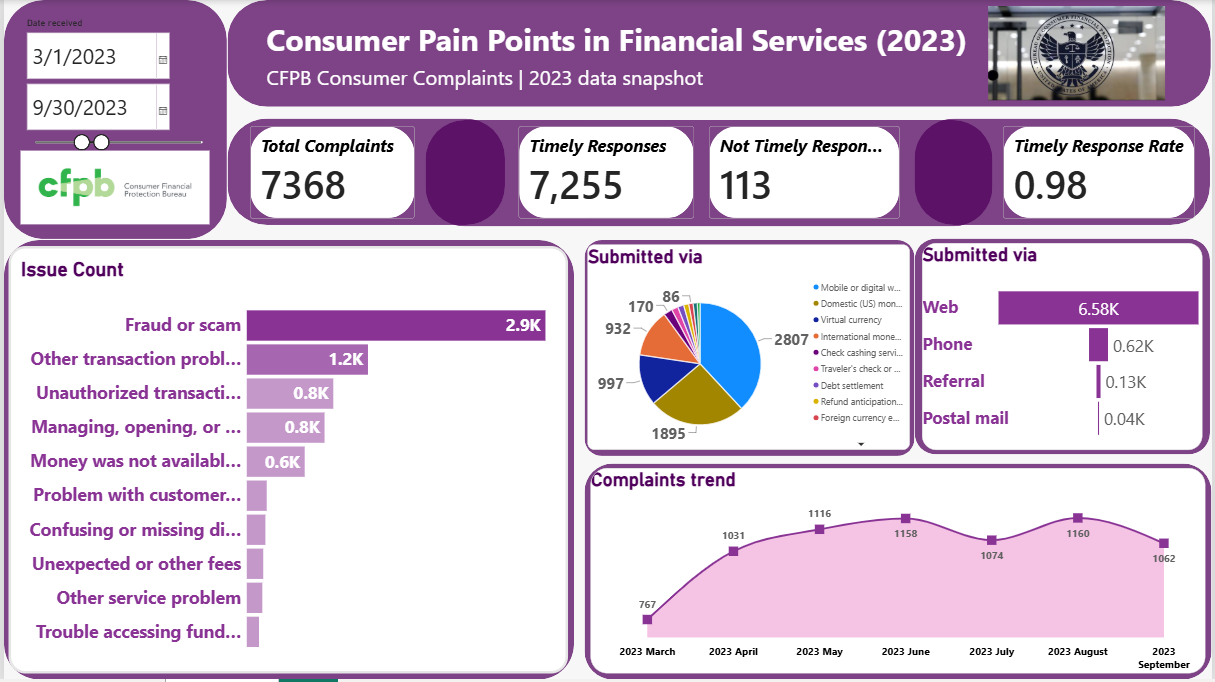

This screenshot's page, from the dashboard's own definition file:
{"tool":"powerbi","page":{"name":"Page 1","canvas":[1920,1080],"ordinal":0},"visuals":[{"type":"shape","box":[354.5,0,1564.2,169.7],"z":0},{"type":"shape","box":[355.5,188.5,441.4,169.4],"z":1000},{"type":"shape","box":[670.4,190.9,901.9,169.4],"z":2000},{"type":"shape","box":[1448.3,188.5,470,169.4],"z":3000},{"type":"shape","box":[0,0,354.5,380.3],"z":4000},{"type":"shape","box":[0,381.7,906.6,699.1],"z":5000},{"type":"shape","box":[1448.3,379.4,470,343.6],"z":6000},{"type":"shape","box":[923.3,737.2,997.3,343.6],"z":7000},{"type":"cardVisual","fields":{"Data":["Cleaned.Total Complaints"]},"box":[391.3,200.4,262.5,147.9],"z":8000},{"type":"cardVisual","fields":{"Data":["Cleaned.Timely Responses"]},"box":[818.4,200.4,279.2,147.9],"z":9000},{"type":"cardVisual","fields":{"Data":["Cleaned.Not Timely Responses"]},"box":[1121.4,200.4,303,147.9],"z":10000},{"type":"cardVisual","fields":{"Data":["Cleaned.Timely Response Rate"]},"box":[1589,200.4,305.4,147.9],"z":11000},{"type":"textbox","box":[417.5,28.6,1266.9,74],"z":12000},{"type":"textbox","box":[417.5,100.2,718.2,50.1],"z":13000},{"type":"clusteredBarChart","title":"Issue Count","fields":{"Y":["CountNonNull(Cleaned.Issue)"],"Category":["Cleaned.Issue"]},"box":[7.2,391.3,889.9,680],"z":14000},{"type":"slicer","fields":{"Values":["Cleaned.Date received"]},"box":[28.3,28.3,303.3,331.7],"z":15000},{"type":"funnel","title":"Submitted via","fields":{"Category":["Cleaned.Submitted via"],"Y":["CountNonNull(Cleaned.Submitted via)"]},"box":[1460.2,386.5,446.2,329.3],"z":16000},{"type":"lineChart","title":"Complaints trend","fields":{"Y":["CountNonNull(Cleaned.Complaint ID)"],"Category":["Cleaned.Date received.Variation.Date Hierarchy.Year","Cleaned.Date received.Variation.Date Hierarchy.Month"]},"box":[932.9,744.4,978.2,326.9],"z":17000},{"type":"shape","box":[923.3,381.7,524.9,343.6],"z":18000},{"type":"pieChart","title":"Submitted via","fields":{"Category":["Cleaned.Sub-product"],"Y":["CountNonNull(Cleaned.Sub-product)"]},"box":[928.1,388.9,513,326.9],"z":19000},{"type":"image","box":[26.2,236.2,300.6,124.1],"z":19001},{"type":"image","box":[1534.1,9.5,343.6,150.3],"z":19002}]}

Visuals, with their boxes in screenshot pixels (x1, y1, x2, y2), scaled from the page's 1920x1080 canvas onto the 1215x682 screenshot:
shape: 224/0/1214/107
shape: 225/119/504/226
shape: 424/121/995/228
shape: 917/119/1214/226
shape: 0/0/224/240
shape: 0/241/574/681
shape: 917/240/1214/457
shape: 584/466/1214/681
cardVisual - Cleaned.Total Complaints: 248/127/414/220
cardVisual - Cleaned.Timely Responses: 518/127/695/220
cardVisual - Cleaned.Not Timely Responses: 710/127/901/220
cardVisual - Cleaned.Timely Response Rate: 1006/127/1199/220
textbox: 264/18/1066/65
textbox: 264/63/719/95
"Issue Count" clusteredBarChart: 5/247/568/677
slicer - Cleaned.Date received: 18/18/210/227
"Submitted via" funnel: 924/244/1206/452
"Complaints trend" lineChart: 590/470/1209/677
shape: 584/241/916/458
"Submitted via" pieChart: 587/246/912/452
image: 17/149/207/228
image: 971/6/1188/101
